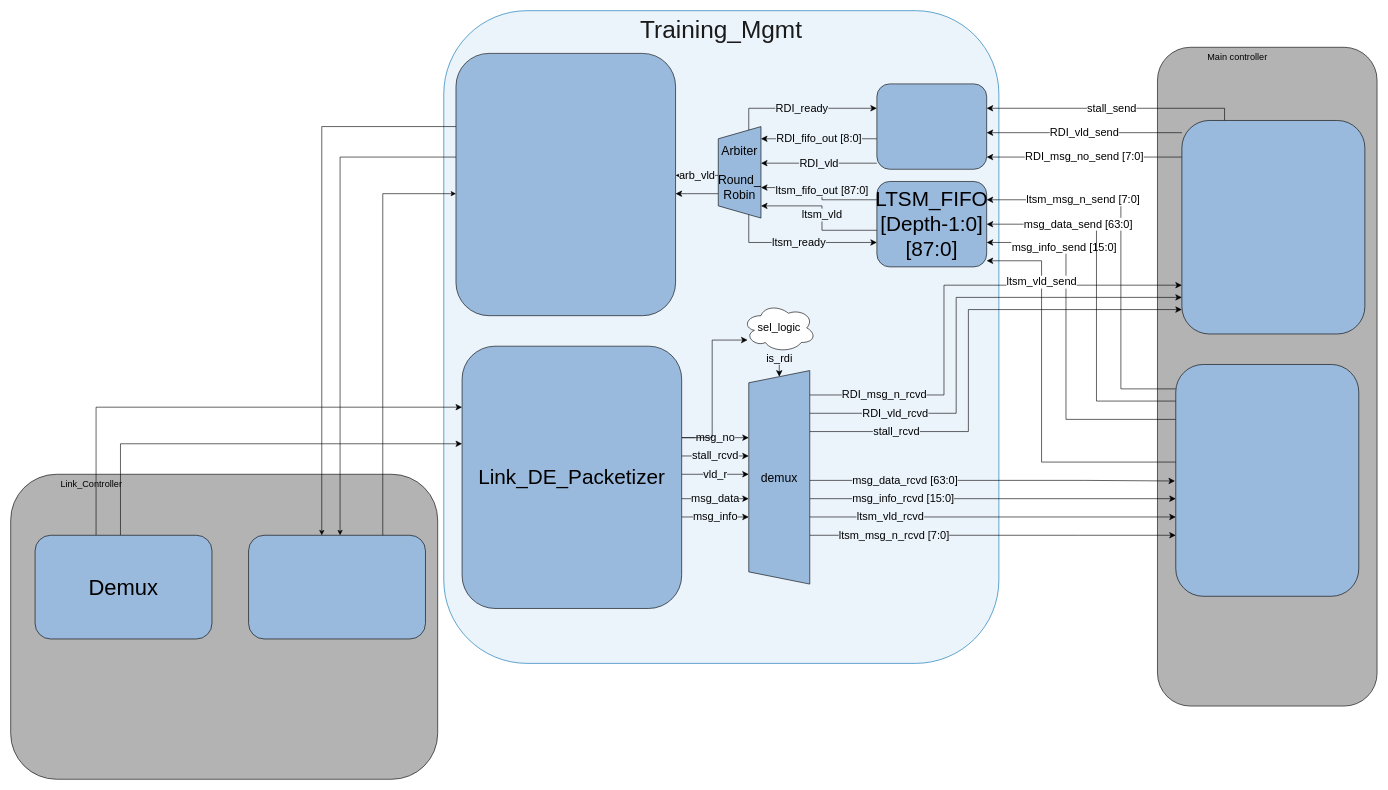
This 1388x790 diagram has some shape labels left out. Here are the shapes that lost their labels. From the top down, the centre of each, then its label:
pixel 931 126: RDI_FIFO [Depth-1:0] [8:0]
pixel 565 184: Link_Packetizer
pixel 1273 227: RDI_SM
pixel 1267 480: LTSM
pixel 336 587: Arbiter
